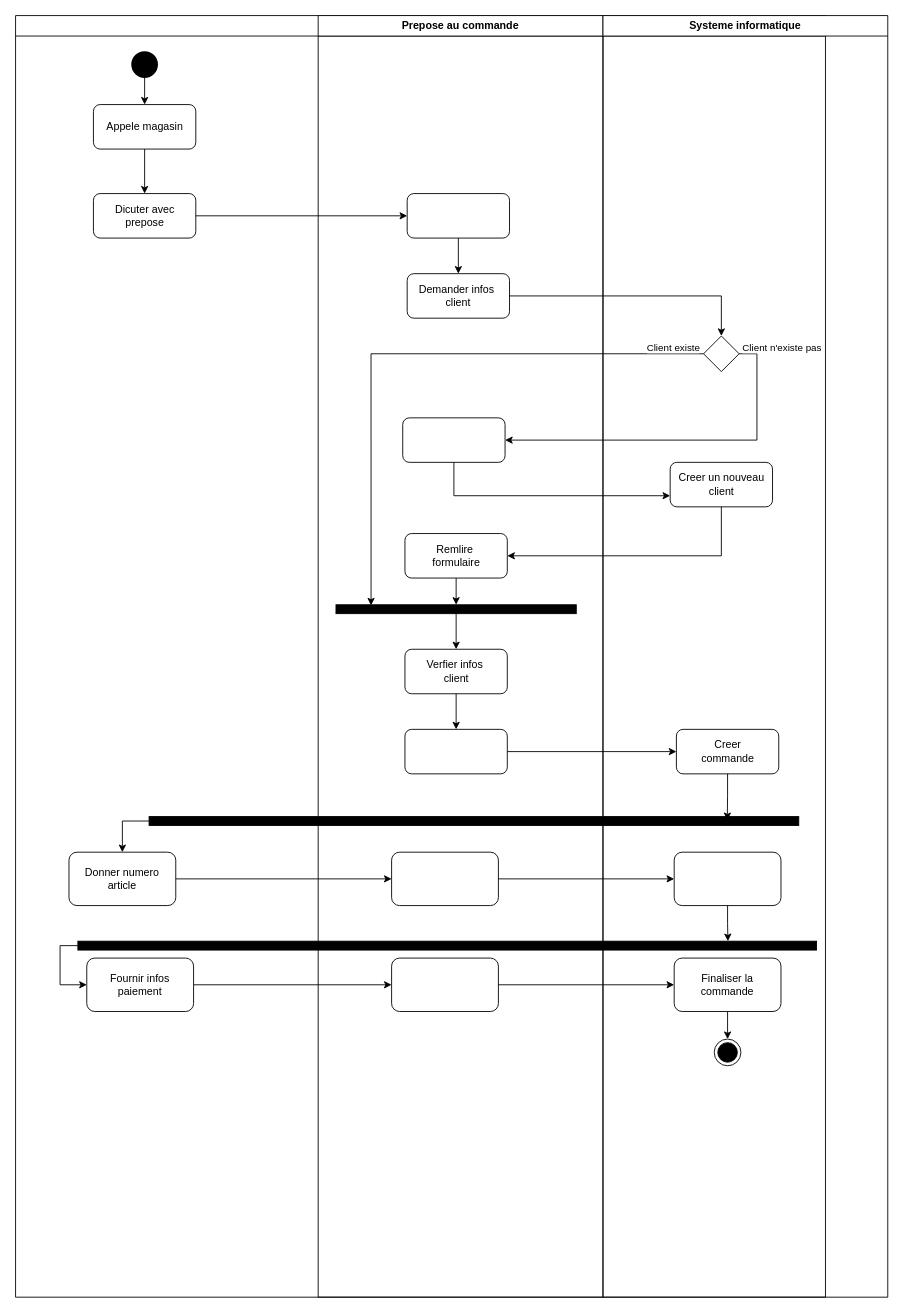
Image size: 903x1313. Some labels were removed from this diagram. Each missing label, with the centre of its shape:
Ajouter article: point (727, 878)
Debuter la commande: point (455, 751)
Demander creation nouveau compte: point (453, 439)
Enter infos paiement: point (444, 984)
Entrer numero article: point (444, 878)
Questionner client: point (458, 215)
